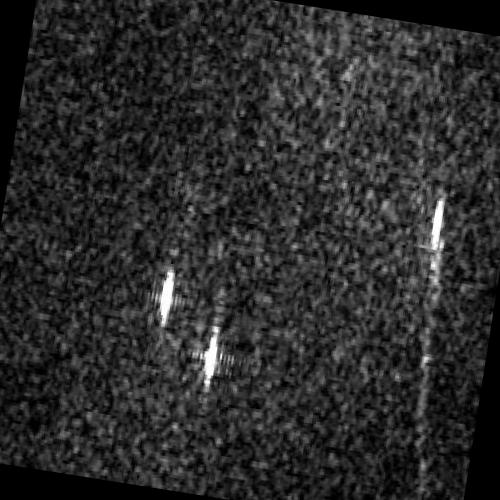ship: (203, 326, 220, 391), (159, 269, 175, 328), (430, 194, 445, 253)
